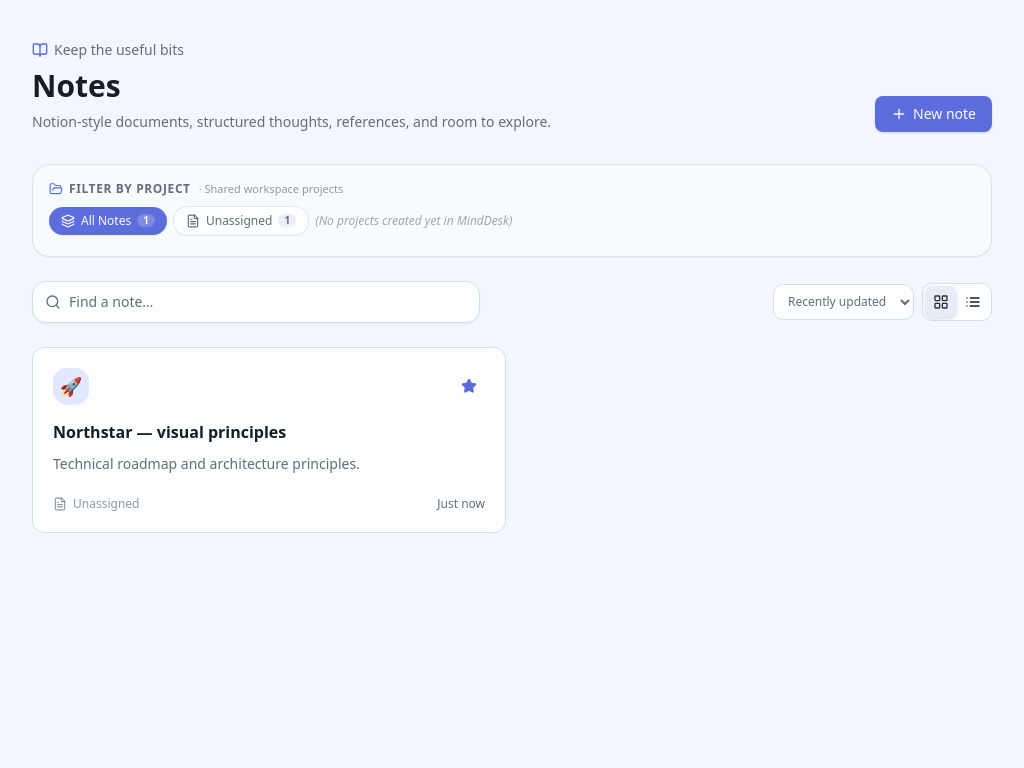
Test: MindDesk Notion-Style Notes & Document Editor › filters notes by title and content body accurately
Note: Search for note
Type "visual principles" into the field with placeholder "Find a note…" at (268, 302), box x1=69 y1=282 x2=467 y2=322
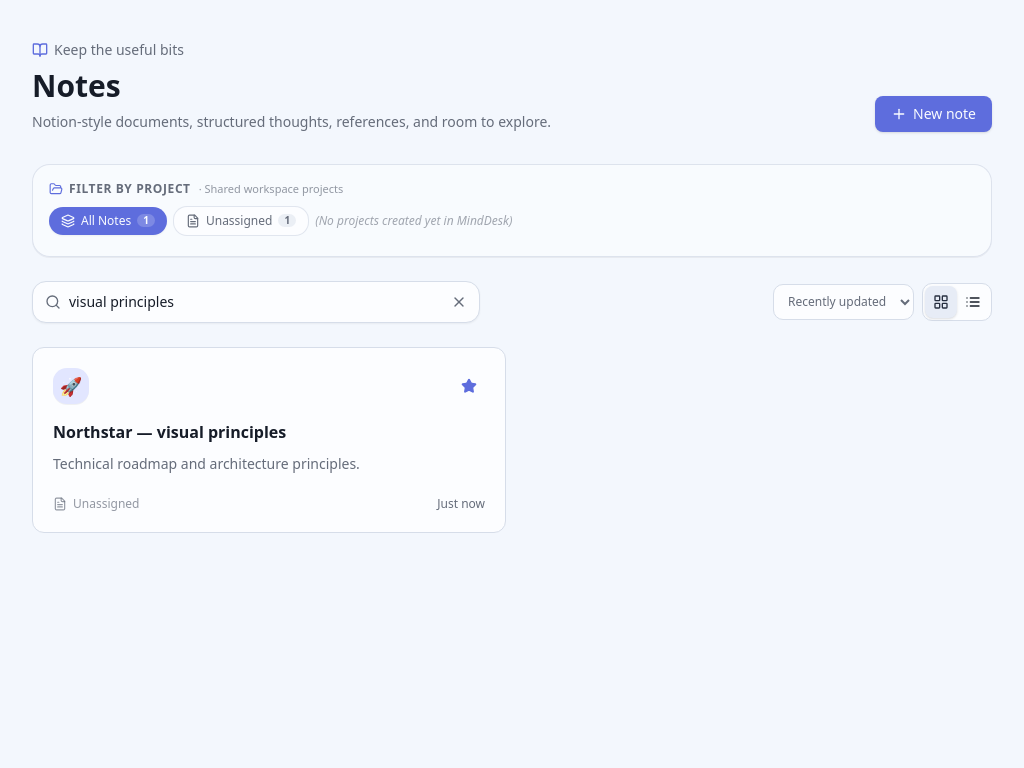
Expected: the button "Northstar — visual principles" is shown, x1=53 y1=420 x2=485 y2=444
Note: Query for non-existent text
Replace the text in the field with placeholder "Find a note…" with "nonexistent query string" at (256, 302), box x1=69 y1=282 x2=443 y2=322
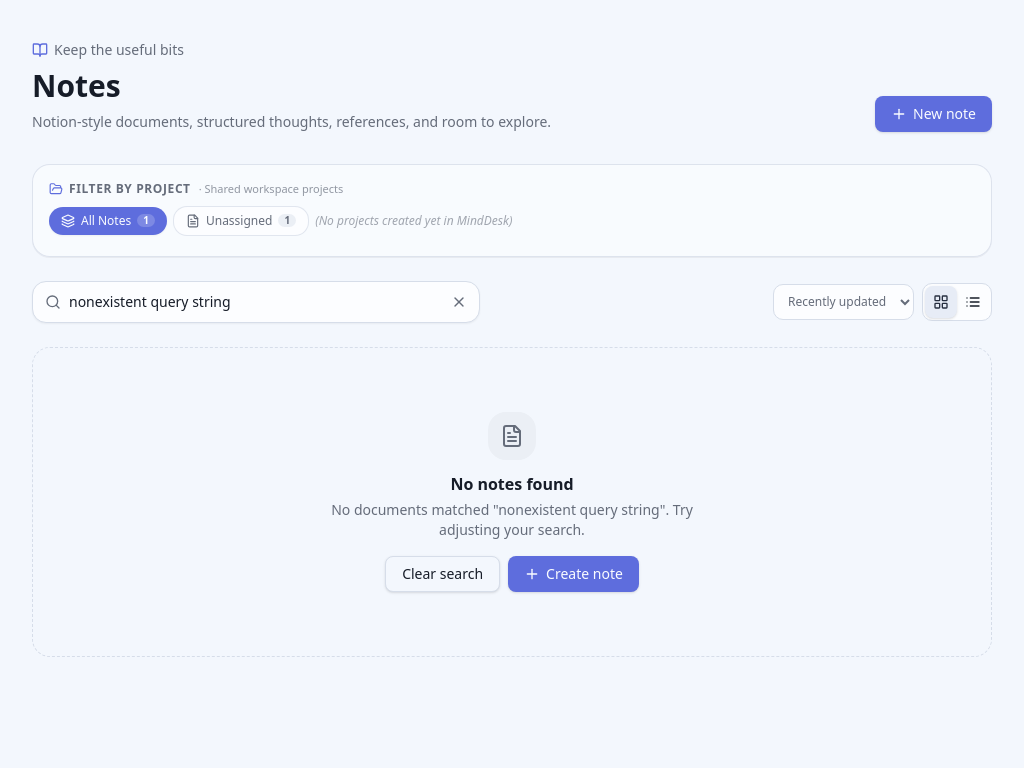
Expected: the button "Northstar — visual principles" is gone
Expected: the heading "No notes found" is shown, x1=450 y1=472 x2=574 y2=496
